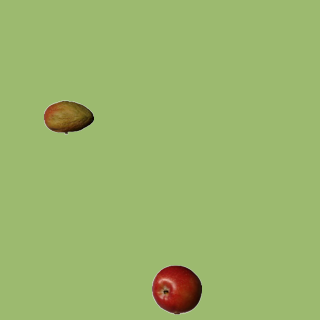Apple Braeburn: (151, 264, 201, 314)
Papaya: (43, 92, 93, 142)
